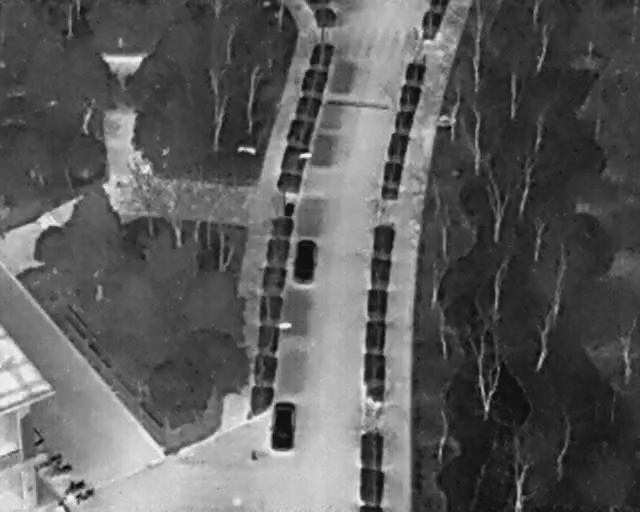Bicycle: (58, 472, 89, 499), (70, 483, 99, 507), (38, 449, 67, 470), (48, 460, 74, 478)
Car: (292, 236, 318, 286), (270, 400, 295, 451)
